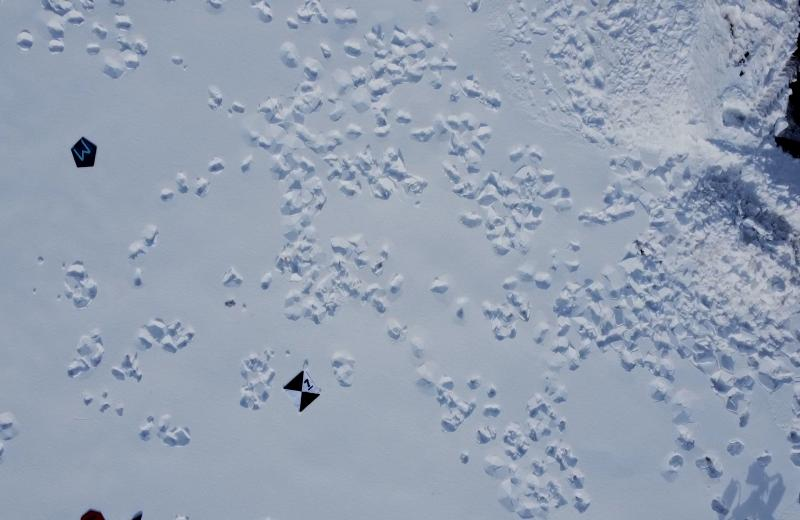Pentagon: (64, 134, 99, 176)
